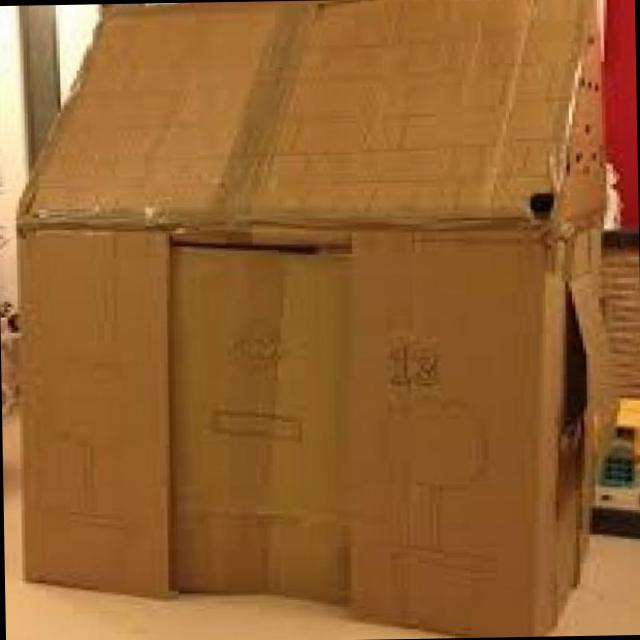cardboard paper: (18, 0, 599, 637)
